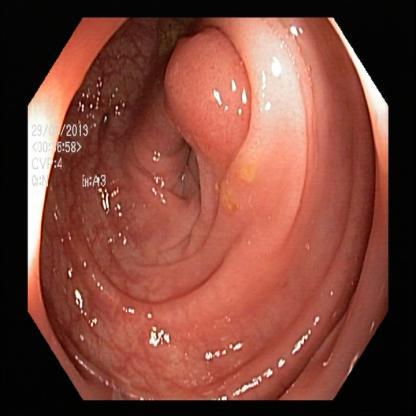Labels: (28, 123, 116, 196)
Polyps: (159, 31, 254, 174)
